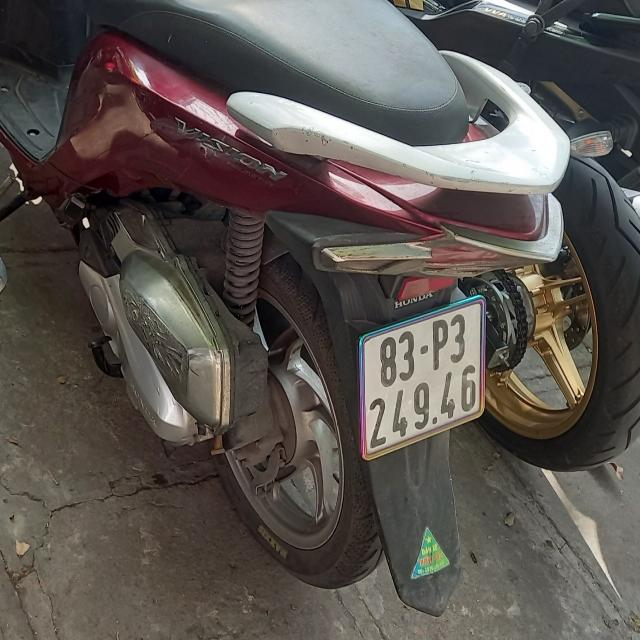2: (370, 396, 386, 447)
3: (400, 330, 414, 381), (451, 314, 465, 364)
4: (392, 388, 408, 438), (441, 370, 455, 420)
6: (462, 364, 475, 410)
8: (380, 337, 398, 387)
9: (415, 382, 429, 428)
P: (433, 320, 448, 370)
